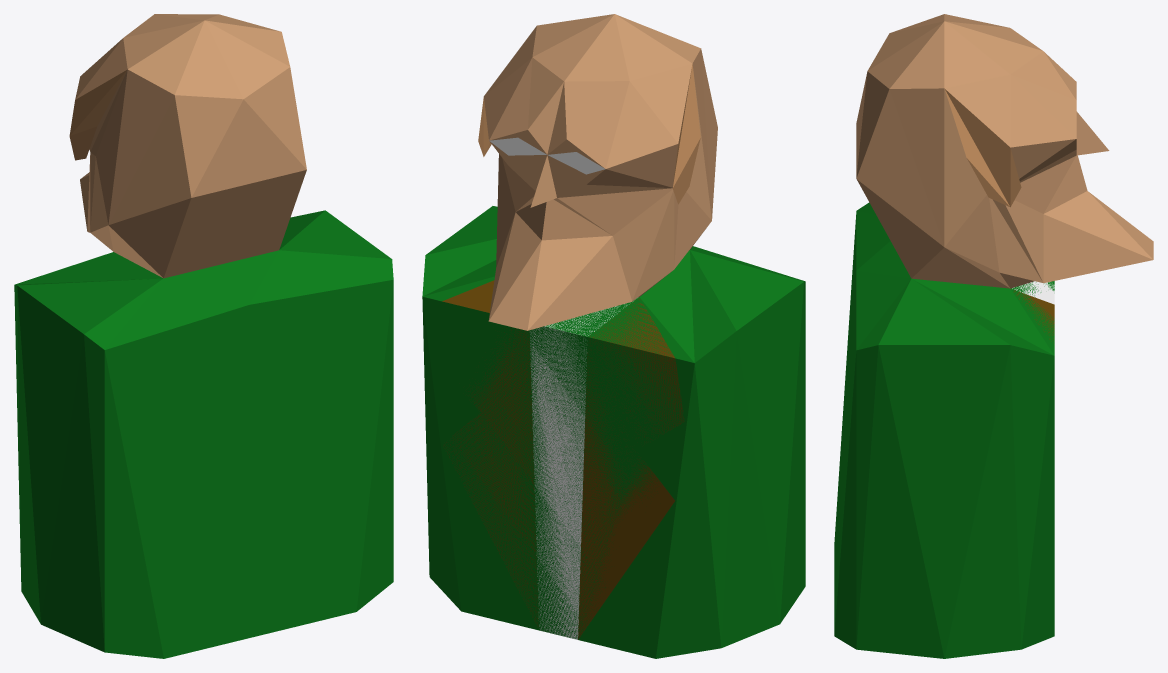
Rendered from npc_world_rometti_0.obj.
The picture shows the model from 3 angles, left to right: view 1: azimuth 30°, elevation 25°; view 2: azimuth 150°, elevation 25°; view 3: azimuth 270°, elevation 25°; orthographic projection. The views are drawn at different scales.
Size of the model in its own units: 0.2656 by 0.4453 by 0.2266.
